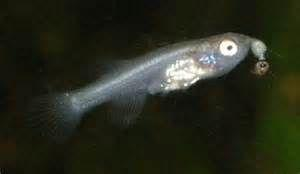Mosquito Fish: (29, 32, 260, 150)
